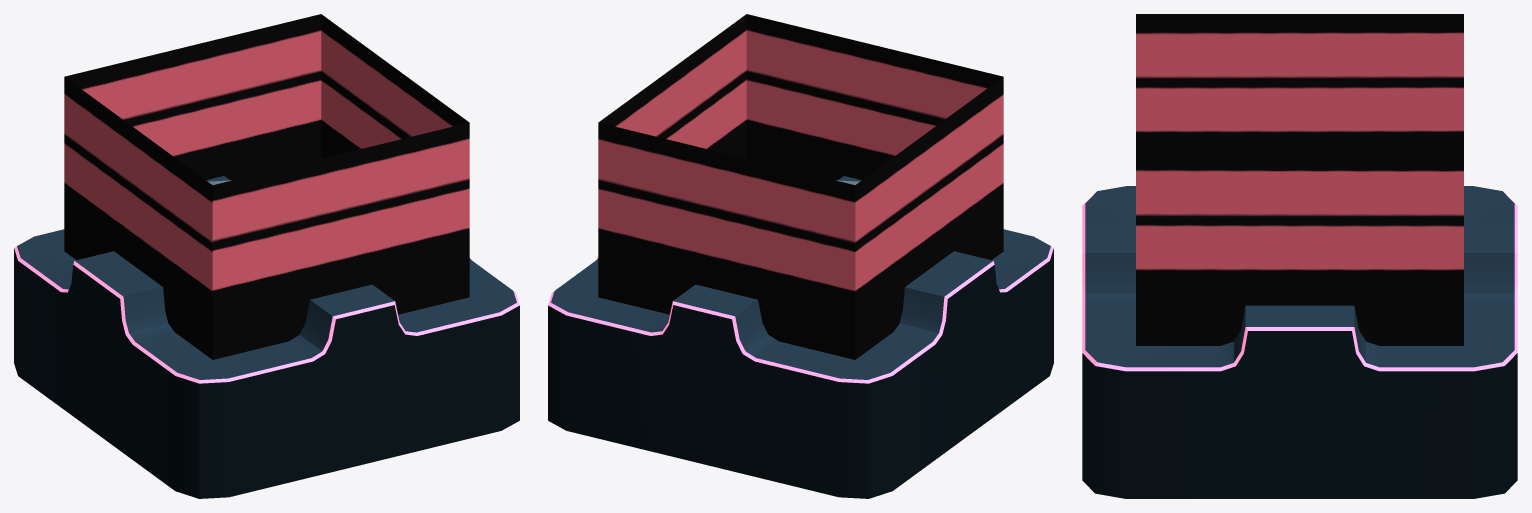
The model's file is mesh_turbine_01.fbx.
3 views of the same model, side by side, from view 1: azimuth 30°, elevation 25°; view 2: azimuth 150°, elevation 25°; view 3: azimuth 270°, elevation 25° (orthographic). The views are drawn at different scales.
Visible parts, largest first — view 1: mesh_turbine_01; view 2: mesh_turbine_01; view 3: mesh_turbine_01.
Part boxes in pixels (x1,y1,x2,y2): mesh_turbine_01: (14, 14, 519, 498); mesh_turbine_01: (548, 14, 1053, 498); mesh_turbine_01: (1082, 14, 1517, 498).
Bounding box in the file's own units: 303 × 248 × 303.
Materials: 6 (1 with a texture image).
